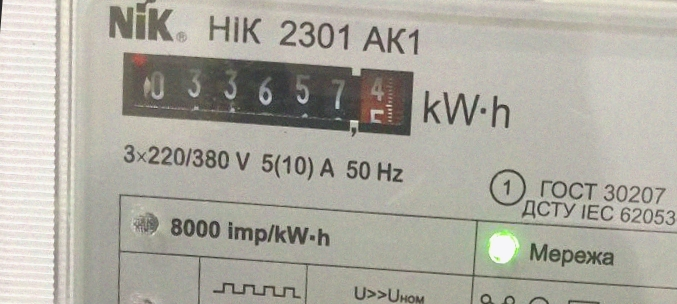0: (145, 65, 168, 104)
3: (183, 64, 205, 101), (219, 66, 240, 102)
4: (366, 73, 388, 104)
5: (289, 70, 314, 107)
6: (253, 72, 275, 108)
7: (326, 74, 346, 112)
screen: (105, 41, 423, 147)
